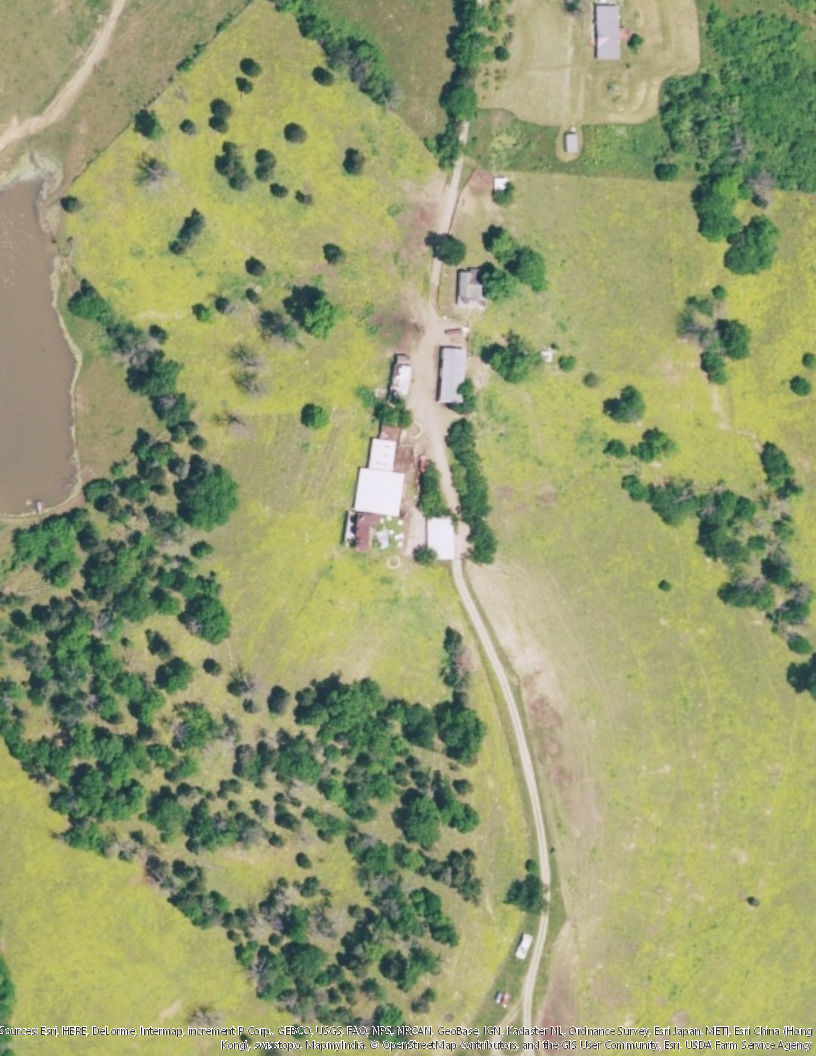cafo: (340, 349, 424, 552)
